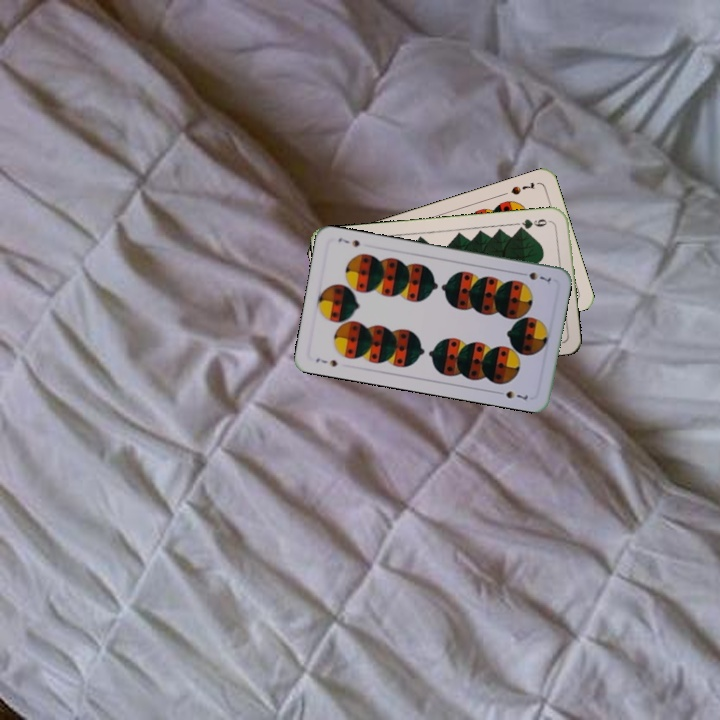G9: (514, 215, 554, 233)
S7: (515, 268, 554, 285), (507, 178, 537, 197), (312, 354, 341, 369)
